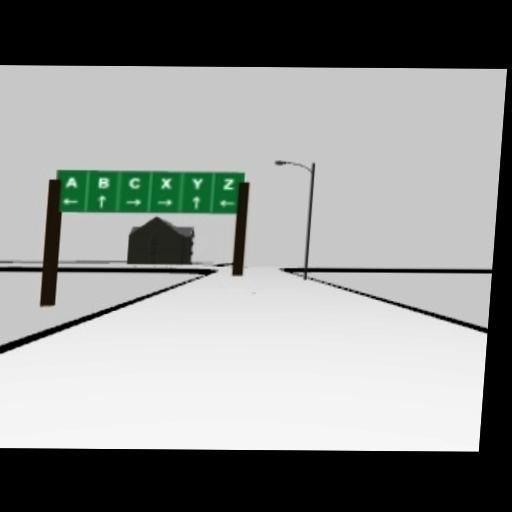A: (64, 176, 79, 189)
B: (98, 174, 110, 187)
C: (128, 175, 140, 188)
Left: (218, 198, 236, 207), (60, 197, 80, 205)
Right: (153, 198, 175, 207), (125, 198, 143, 207)
Straight: (191, 195, 202, 209), (96, 193, 107, 206)
X: (159, 175, 173, 188)
Y: (191, 175, 203, 188)
Z: (222, 177, 236, 188)
